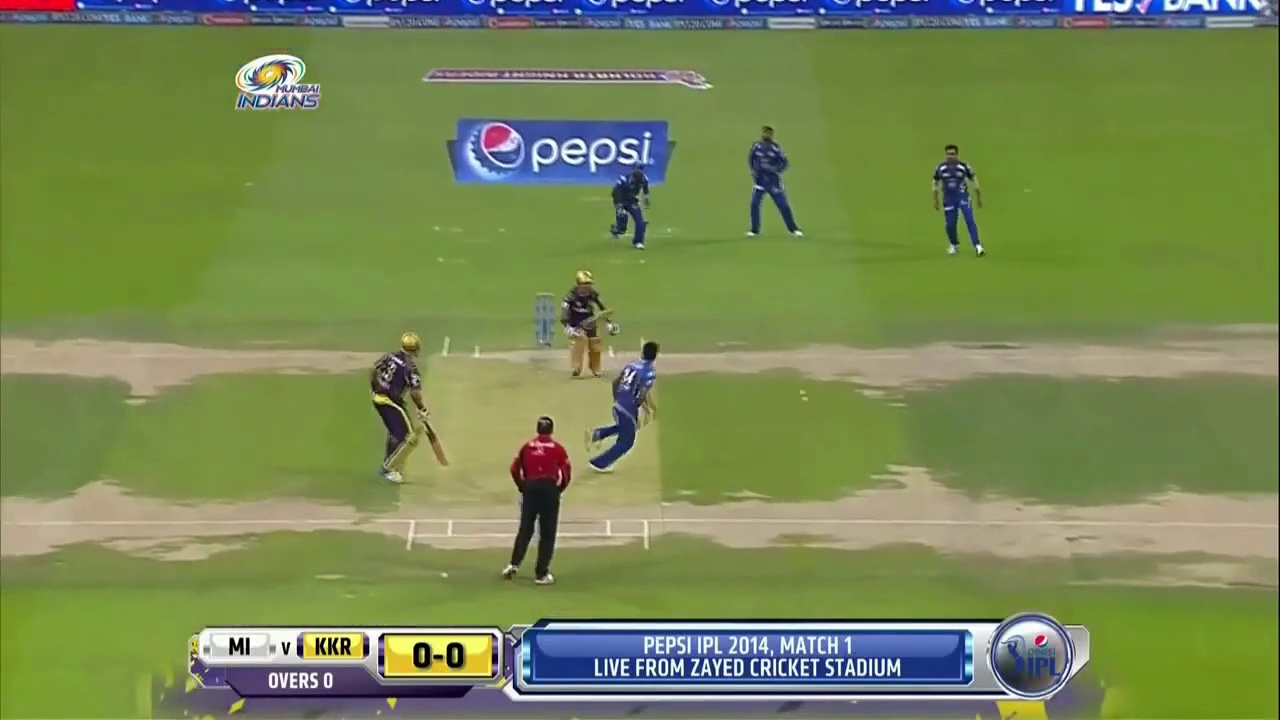bat: (420, 423, 449, 468)
